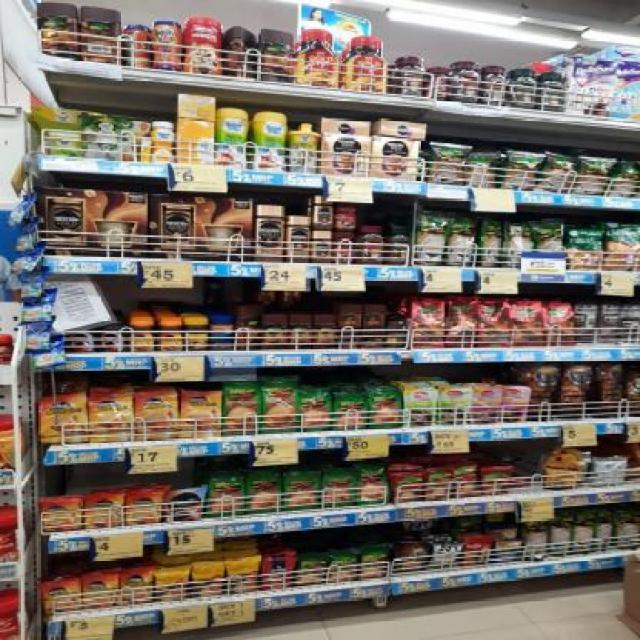Coffee: (40, 397, 88, 443), (134, 393, 180, 439), (88, 399, 132, 442), (180, 392, 222, 436), (255, 204, 285, 262), (38, 499, 80, 531), (42, 582, 81, 615), (164, 492, 206, 521), (85, 496, 123, 528), (126, 493, 163, 525), (82, 576, 118, 608), (120, 575, 152, 606), (288, 216, 309, 262), (67, 319, 95, 351), (157, 319, 183, 351), (99, 319, 123, 353), (130, 320, 154, 352), (313, 231, 331, 263), (314, 197, 332, 228)
